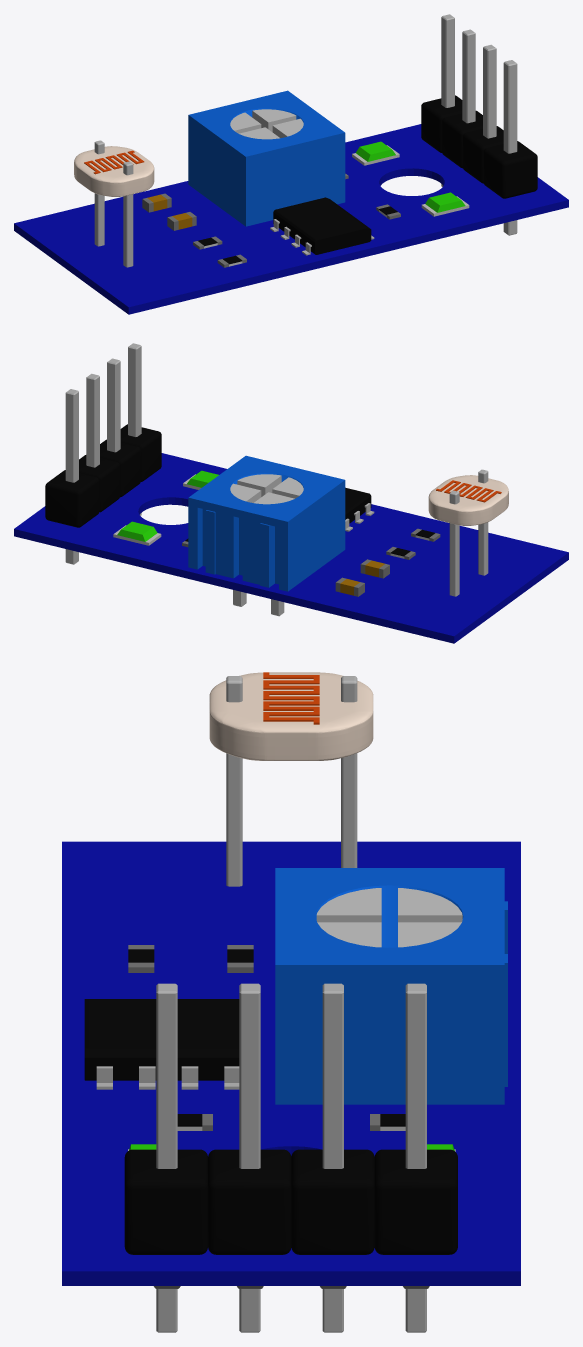
Rendered from ldr-sensor.fbx.
3 views of the same model, one above another, from view 1: azimuth 30°, elevation 25°; view 2: azimuth 150°, elevation 25°; view 3: azimuth 270°, elevation 25° (orthographic). The views are drawn at different scales.
Parts seen in each view (by area): view 1: PCB Board, Trimpot Base, Plastic Wrapper, Pin, IC Base, Cube.001, Wiper, Cube, Grid, LED SMD.001, LED SMD; view 2: PCB Board, Trimpot Base, Plastic Wrapper, Pin, Cube.001, Wiper, Cube, IC Base, Grid, LED SMD, Pin.002; view 3: PCB Board, Trimpot Base, Plastic Wrapper, Pin, Cube.001, IC Base, Wiper, Cube, Grid, IC Pin.
Boxes of the visible parts, x1,y1,x2,y2 form: PCB Board: [14, 124, 568, 314]; Trimpot Base: [188, 90, 345, 226]; Plastic Wrapper: [421, 95, 537, 198]; Pin: [441, 14, 517, 235]; IC Base: [273, 197, 371, 254]; Cube.001: [74, 146, 154, 196]; Wiper: [230, 109, 303, 139]; Cube: [94, 140, 133, 267]; Grid: [84, 150, 144, 174]; LED SMD.001: [425, 192, 465, 212]; LED SMD: [356, 141, 395, 161]; PCB Board: [14, 453, 568, 643]; Trimpot Base: [188, 455, 345, 591]; Plastic Wrapper: [45, 424, 161, 527]; Pin: [65, 343, 141, 564]; Cube.001: [428, 475, 508, 525]; Wiper: [230, 474, 303, 504]; Cube: [449, 469, 488, 596]; IC Base: [345, 487, 371, 523]; Grid: [436, 480, 501, 502]; LED SMD: [117, 521, 157, 541]; Pin.002: [233, 590, 284, 616]; PCB Board: [62, 841, 520, 1285]; Trimpot Base: [275, 868, 507, 1104]; Plastic Wrapper: [124, 1149, 457, 1254]; Pin: [156, 983, 426, 1332]; Cube.001: [209, 672, 373, 760]; IC Base: [84, 999, 239, 1080]; Wiper: [316, 888, 462, 947]; Cube: [226, 676, 357, 886]; Grid: [263, 672, 319, 724]; IC Pin: [96, 1066, 239, 1089].
Bounding box in the file's own units: 6200 × 2300 × 2800.
